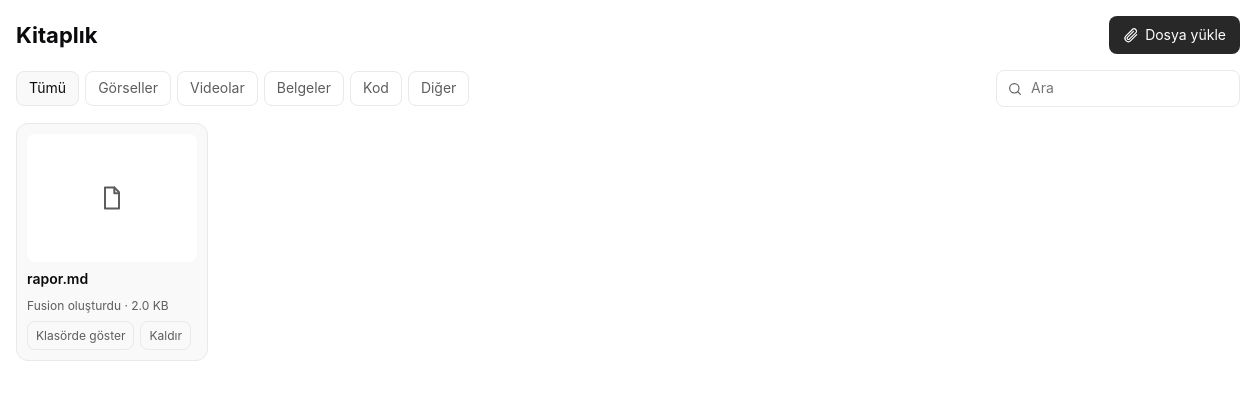
Test: LibraryScreen › çok dosyada birden çok hata varsa kaçının eklenemediği ve ilk neden yazılır (U6-03)
The width and height of the screenshot is (1257, 417).
Expected: the text "rapor.md" is shown, [27,270,88,286]
Click the button "Dosya yükle" at {"x": 1175, "y": 35}, box [1109,16,1240,54]
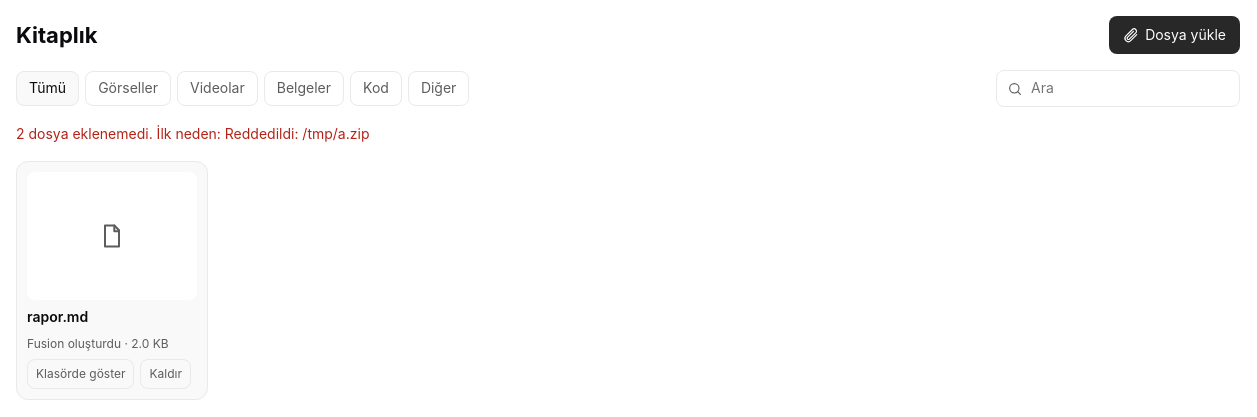
Expected: the message reads "2 dosya eklenemedi. İlk neden: Reddedildi: /tmp/a.zip", [16,125,370,142]
